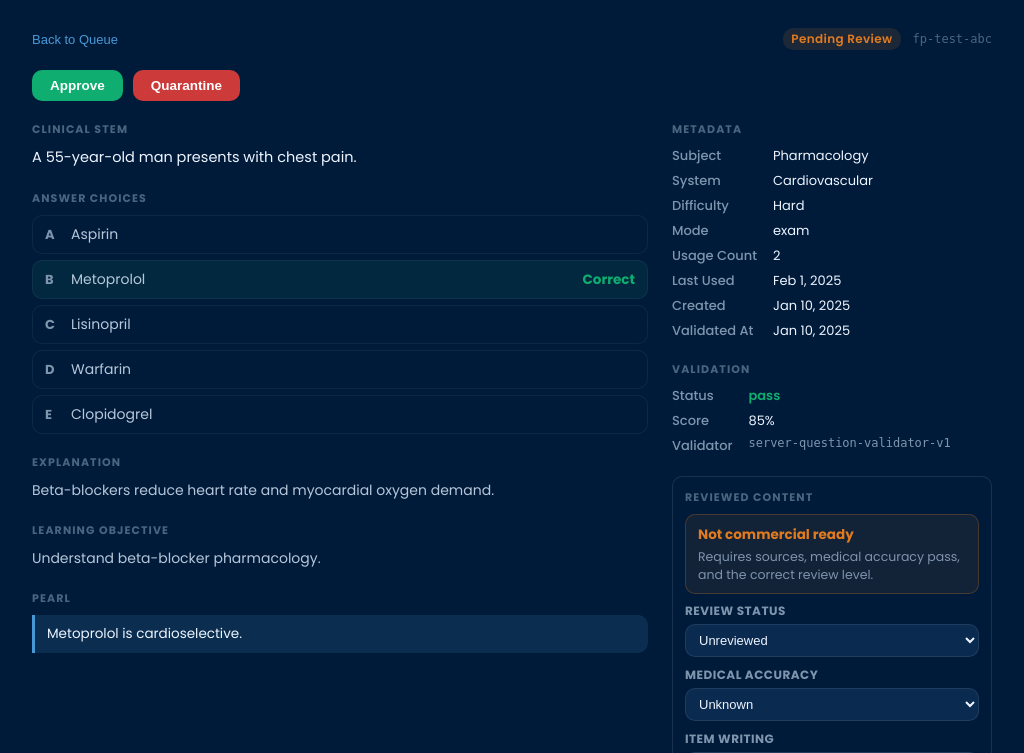
Test: AdminReviewDetail › opens confirm modal on Quarantine click
The image size is (1024, 753).
Click the button "Quarantine". click: (186, 86)
box: [133,70,240,101]
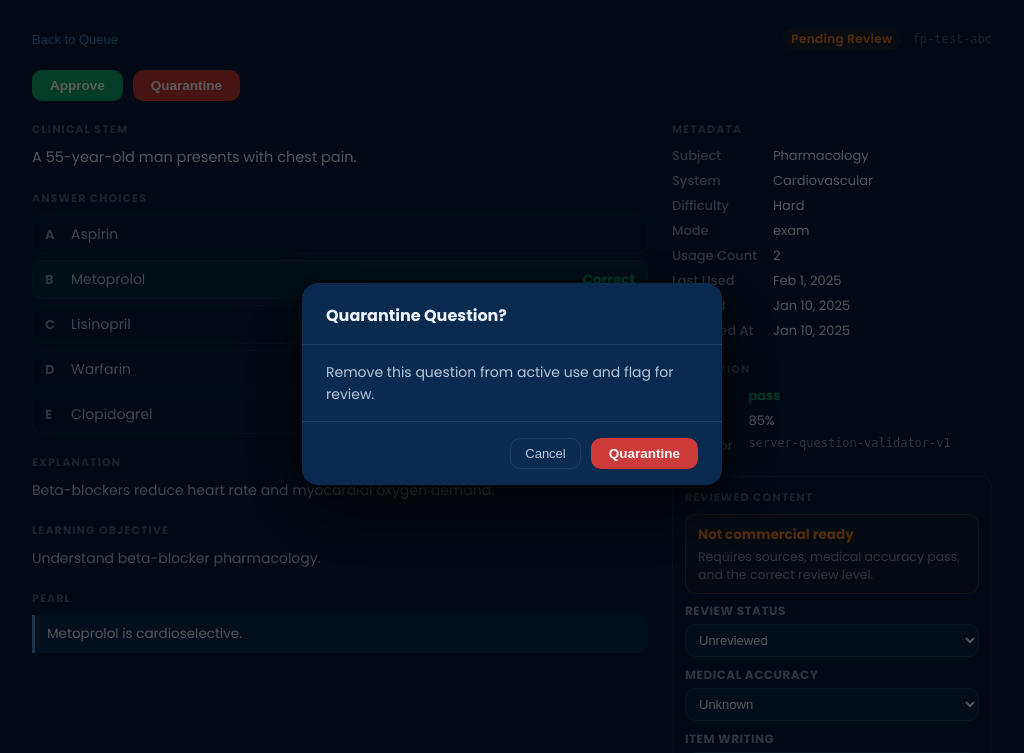
expect the heading "Quarantine Question?" is shown: met, box [326,304,507,327]
